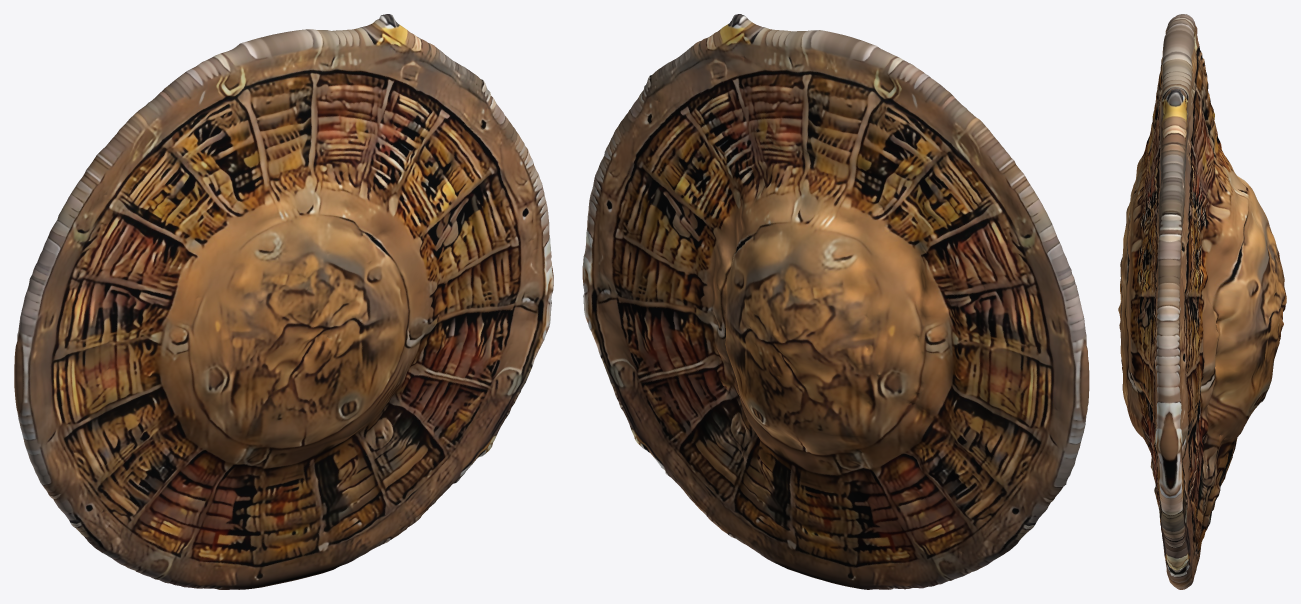
Rendered from kfl-2133.glb.
3 views of the same model, side by side, from view 1: azimuth 30°, elevation 25°; view 2: azimuth 150°, elevation 25°; view 3: azimuth 270°, elevation 25° (orthographic). The views are drawn at different scales.
Visible parts, largest first — view 1: kfl-2133; view 2: kfl-2133; view 3: kfl-2133.
Boxes of the visible parts, left/top/right/bottom form: kfl-2133: left=14, top=14, right=553, bottom=589; kfl-2133: left=582, top=14, right=1089, bottom=589; kfl-2133: left=1118, top=14, right=1286, bottom=589.
Bounding box in the file's own units: 0.9896 × 0.9939 × 0.2926.
1 material, 1 textured.
